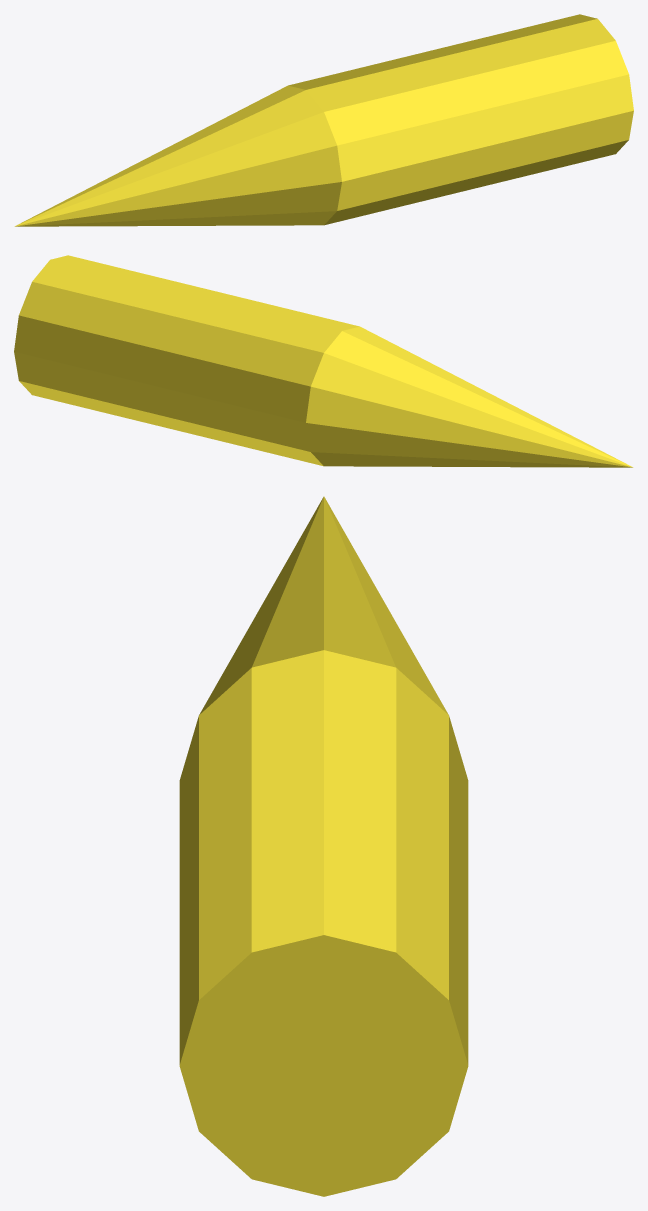
Rendered from Rifle - Bullet.obj.
3 renders of one model, top to bottom at view 1: azimuth 30°, elevation 25°; view 2: azimuth 150°, elevation 25°; view 3: azimuth 270°, elevation 25°, orthographic. The views are drawn at different scales.
Parts seen in each view (by area): view 1: group904410688, group1811270971; view 2: group904410688, group1811270971; view 3: group904410688, group1811270971.
Boxes of the visible parts, bbox=[...] form: group904410688: bbox=[288, 14, 633, 225]; group1811270971: bbox=[14, 85, 341, 226]; group904410688: bbox=[14, 255, 359, 466]; group1811270971: bbox=[306, 326, 633, 467]; group904410688: bbox=[179, 650, 468, 1196]; group1811270971: bbox=[199, 496, 448, 714].
Bounding box in the file's own units: 0.14 × 0.03 × 0.03.
